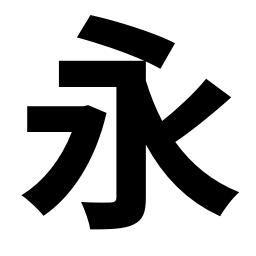D: (76, 12, 176, 50)
HSZ: (107, 59, 150, 97)
Hs: (55, 57, 98, 89)
Ne: (194, 180, 242, 218)
PNc: (151, 111, 184, 156)
PZe: (19, 180, 63, 217)
Ps: (191, 77, 233, 109)
SG: (79, 192, 150, 232)
Sm: (114, 156, 148, 182)
TPZ: (66, 103, 108, 152)
Ts: (24, 103, 54, 136)
